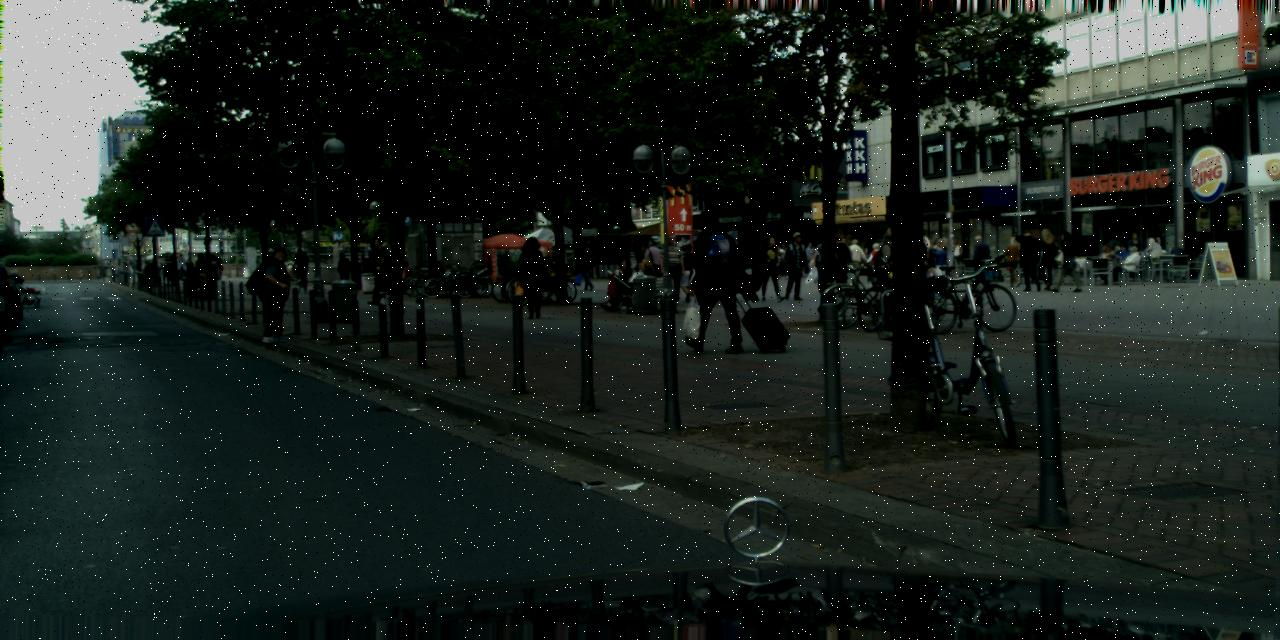ped: (682, 208, 740, 351), (258, 247, 296, 341), (516, 236, 548, 318), (658, 232, 688, 305), (779, 232, 808, 300), (368, 237, 395, 304), (142, 252, 206, 280), (758, 235, 784, 300), (1052, 230, 1078, 291), (1034, 228, 1059, 290), (619, 234, 644, 295), (1018, 230, 1043, 290), (678, 244, 700, 300), (643, 240, 665, 294), (923, 232, 948, 276), (1142, 230, 1162, 280), (1004, 235, 1024, 285), (1124, 231, 1144, 277), (970, 235, 989, 283), (834, 236, 854, 281), (1099, 244, 1129, 268), (806, 242, 821, 288), (869, 242, 885, 284), (580, 248, 596, 290), (336, 252, 352, 290), (359, 253, 378, 285), (848, 238, 862, 276), (865, 238, 879, 273), (294, 249, 308, 284), (876, 227, 890, 258), (775, 243, 787, 279), (211, 252, 223, 280), (954, 238, 964, 270), (121, 260, 132, 271), (110, 259, 118, 269), (135, 262, 139, 272), (1102, 281, 1108, 285), (858, 242, 859, 244), (1100, 277, 1101, 277), (1129, 247, 1129, 247)
